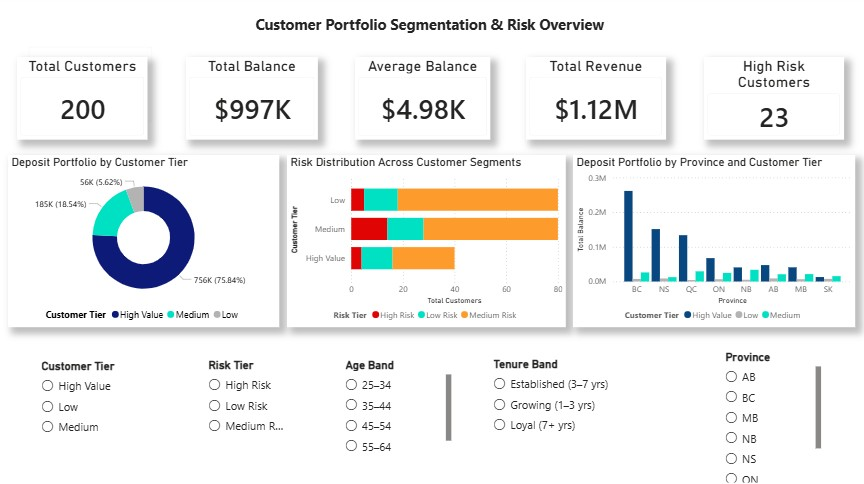

The page's visual inventory and layout, read from the dashboard file:
{"tool":"powerbi","page":{"name":"Executive Overview","canvas":[1280,720],"ordinal":0},"visuals":[{"type":"cardVisual","fields":{"Data":["pbi_customer_master.Total Customers"]},"box":[33.6,58.8,215,144.5],"z":0},{"type":"cardVisual","title":"Total Customers","fields":{"Data":["pbi_customer_master.Total Customers"]},"box":[33.9,90.9,191.5,120.9],"z":1000},{"type":"donutChart","title":"Deposit Portfolio by Customer Tier","fields":{"Y":["pbi_customer_master.Total Balance"],"Category":["pbi_customer_master.customer_tier"]},"box":[20.6,233.9,396.7,252.2],"z":2000},{"type":"barChart","title":"Risk Distribution Across Customer Segments","fields":{"Category":["pbi_customer_master.customer_tier"],"Y":["pbi_customer_master.Total Customers"],"Series":["pbi_customer_master.risk_tier"]},"box":[429.1,233.9,408.5,252.2],"z":3000},{"type":"clusteredColumnChart","title":"Deposit Portfolio by Province and Customer Tier","fields":{"Category":["pbi_customer_master.province"],"Y":["pbi_customer_master.Total Balance"],"Series":["pbi_customer_master.customer_tier"]},"box":[848,233.9,413,252.2],"z":4000},{"type":"listSlicer","title":"Province","fields":{"Values":["pbi_customer_master.province"]},"box":[1064.7,520,150.4,199.1],"z":5000},{"type":"listSlicer","title":"Customer Tier","fields":{"Values":["pbi_customer_master.customer_tier"]},"box":[64.9,533.3,215.3,148.9],"z":6000},{"type":"listSlicer","title":"Risk Tier","fields":{"Values":["pbi_customer_master.risk_tier"]},"box":[308.2,531.8,137.1,119.4],"z":7000},{"type":"listSlicer","title":"Age Band","fields":{"Values":["pbi_customer_master.age_band"]},"box":[508.8,531.8,165.2,150.4],"z":8000},{"type":"listSlicer","title":"Tenure Band","fields":{"Values":["pbi_customer_master.tenure_band"]},"box":[725.5,530.4,300.8,150.4],"z":9000},{"type":"cardVisual","title":"Total Balance","fields":{"Data":["pbi_customer_master.Total Balance"]},"box":[280.8,90.9,193.2,120.9],"z":10000},{"type":"cardVisual","title":"Average Balance","fields":{"Data":["pbi_customer_master.Avg Balance"]},"box":[527.8,90.9,198.2,120.9],"z":11000},{"type":"cardVisual","title":"Total Revenue","fields":{"Data":["pbi_customer_master.Total Revenue"]},"box":[778.1,90.9,204.9,120.9],"z":12000},{"type":"cardVisual","title":"High Risk Customers","fields":{"Data":["pbi_customer_master.High Risk Customers"]},"box":[1038.4,90.9,204.9,120.9],"z":13000},{"type":"textbox","box":[377.5,23.6,553,45.7],"z":14000}]}

Visuals, with their boxes in screenshot pixels (x1, y1, x2, y2), scaled from the page's 1280x720 canvas onto the 864x484 screenshot:
cardVisual - pbi_customer_master.Total Customers: 23/40/168/137
"Total Customers" cardVisual: 23/61/152/142
"Deposit Portfolio by Customer Tier" donutChart: 14/157/282/327
"Risk Distribution Across Customer Segments" barChart: 290/157/565/327
"Deposit Portfolio by Province and Customer Tier" clusteredColumnChart: 572/157/851/327
"Province" listSlicer: 719/350/820/483
"Customer Tier" listSlicer: 44/358/189/459
"Risk Tier" listSlicer: 208/357/301/438
"Age Band" listSlicer: 343/357/455/459
"Tenure Band" listSlicer: 490/357/693/458
"Total Balance" cardVisual: 190/61/320/142
"Average Balance" cardVisual: 356/61/490/142
"Total Revenue" cardVisual: 525/61/664/142
"High Risk Customers" cardVisual: 701/61/839/142
textbox: 255/16/628/47
